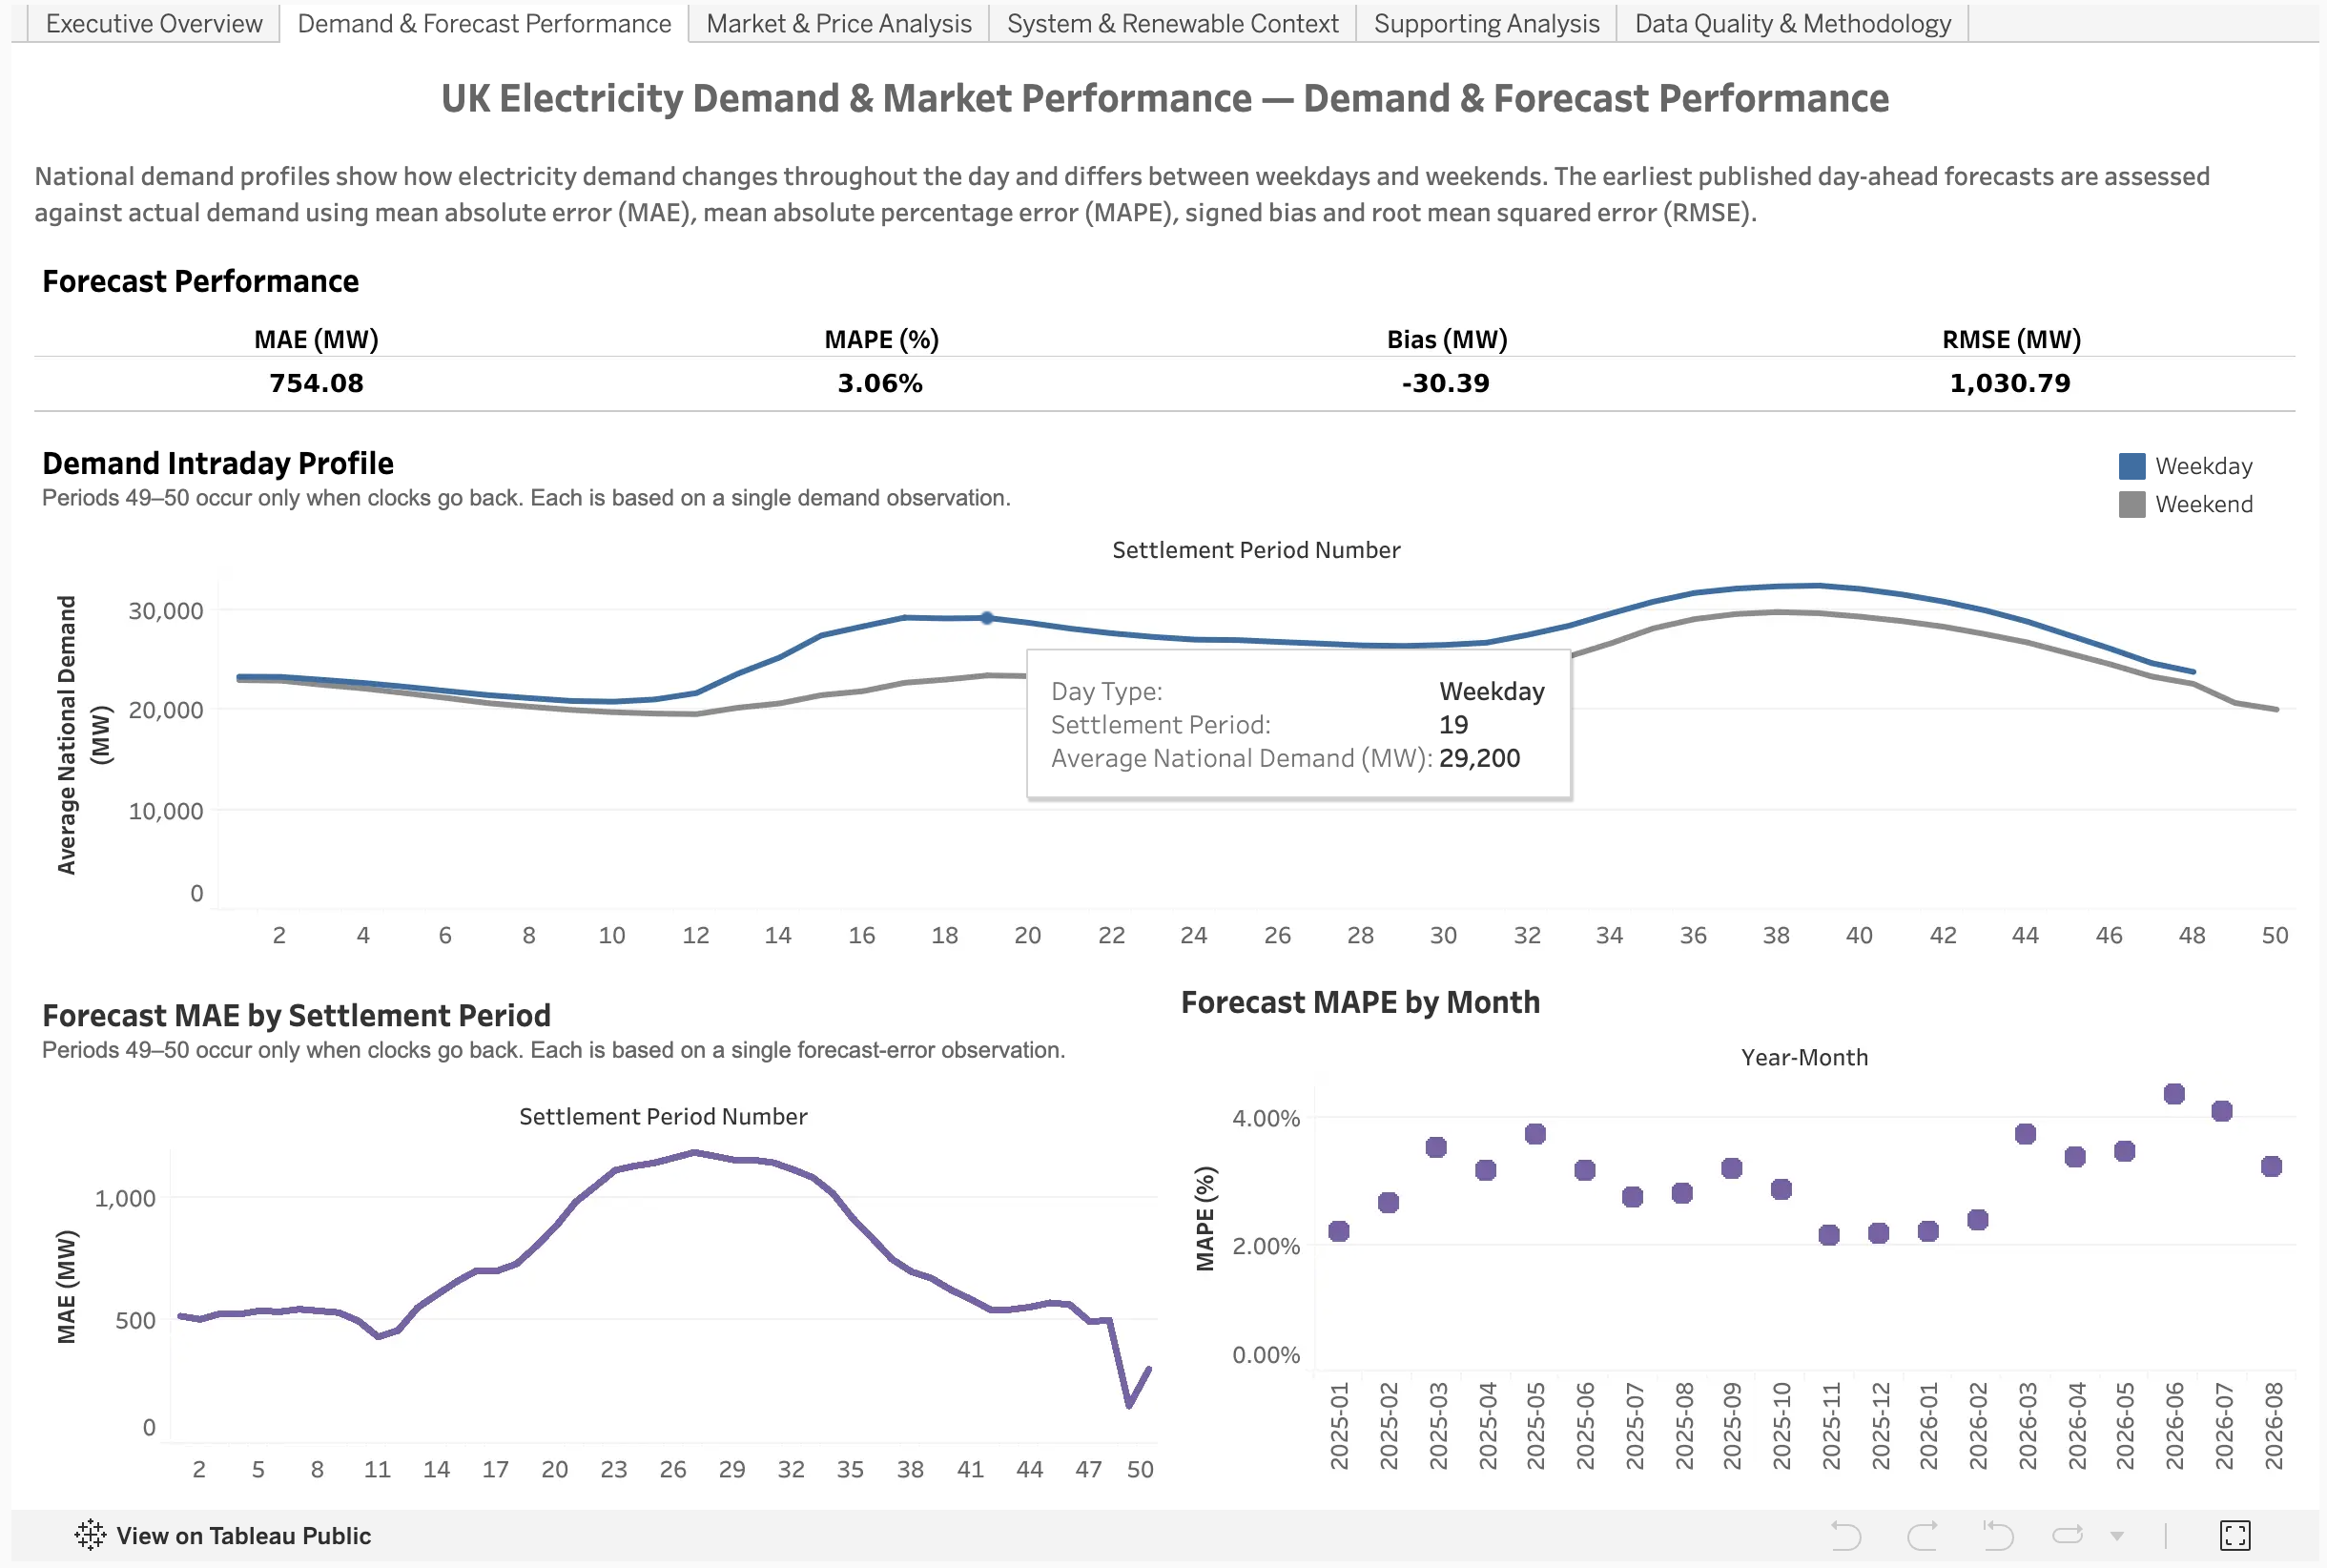

Layout of this report page (visuals, bound fields, positions):
{"tool":"tableau","page":{"name":"Demand & Forecast Performance","canvas":[1210,766],"ordinal":1},"visuals":[{"type":"text","box":[8,8,1194,92]},{"type":"worksheet","title":"KPI - Forecast Performance","mark":"Automatic","box":[8,100,1194,95.8]},{"type":"worksheet","title":"Demand Intraday Profile","mark":"Line","rows":["Calculation_0116049546895360"],"cols":["Settlement Period"],"box":[8,195.8,1194,282.2]},{"type":"legend","title":"Demand Intraday Profile","param":"[federated.0zwrc231uzmggw16olpc30e5ogru (copy 2)].[none:Is Weekend:nk]","box":[1102,210,93,45]},{"type":"worksheet","title":"Forecast MAE by Settlement Period","mark":"Line","cols":["Settlement Period"],"box":[8,478,597,280]},{"type":"worksheet","title":"Forecast MAPE by Month","mark":"Circle","cols":["Year-Month"],"box":[605,478,597,280]}]}

Visuals, with their boxes on the page's 1210x766 design canvas (x1, y1, x2, y2). These are canvas units, not pixel positions in the 2327x1568 screenshot, which may show the page scaled, cropped or inside an application window:
text: crop(8, 8, 1202, 100)
"KPI - Forecast Performance" worksheet: crop(8, 100, 1202, 196)
"Demand Intraday Profile" worksheet (Line marks): crop(8, 196, 1202, 478)
"Demand Intraday Profile" legend: crop(1102, 210, 1195, 255)
"Forecast MAE by Settlement Period" worksheet (Line marks): crop(8, 478, 605, 758)
"Forecast MAPE by Month" worksheet (Circle marks): crop(605, 478, 1202, 758)
